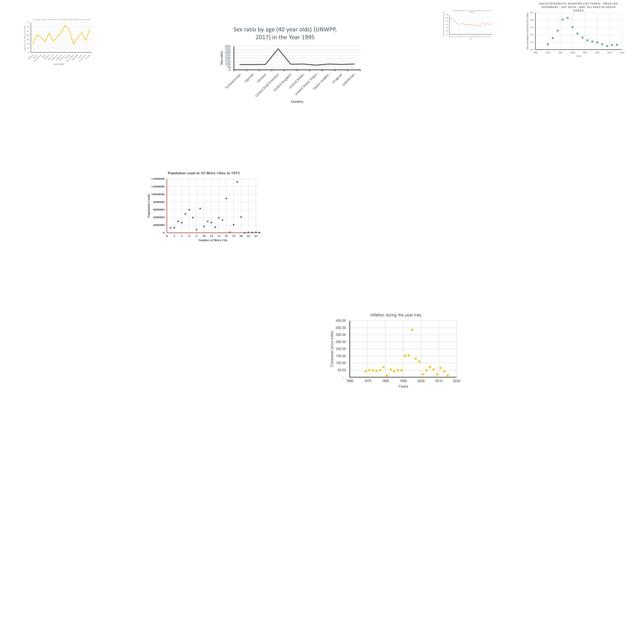Graph: (217, 24, 362, 105), (330, 312, 461, 389), (145, 170, 263, 244), (525, 0, 626, 60), (22, 18, 94, 67), (442, 9, 493, 40)
